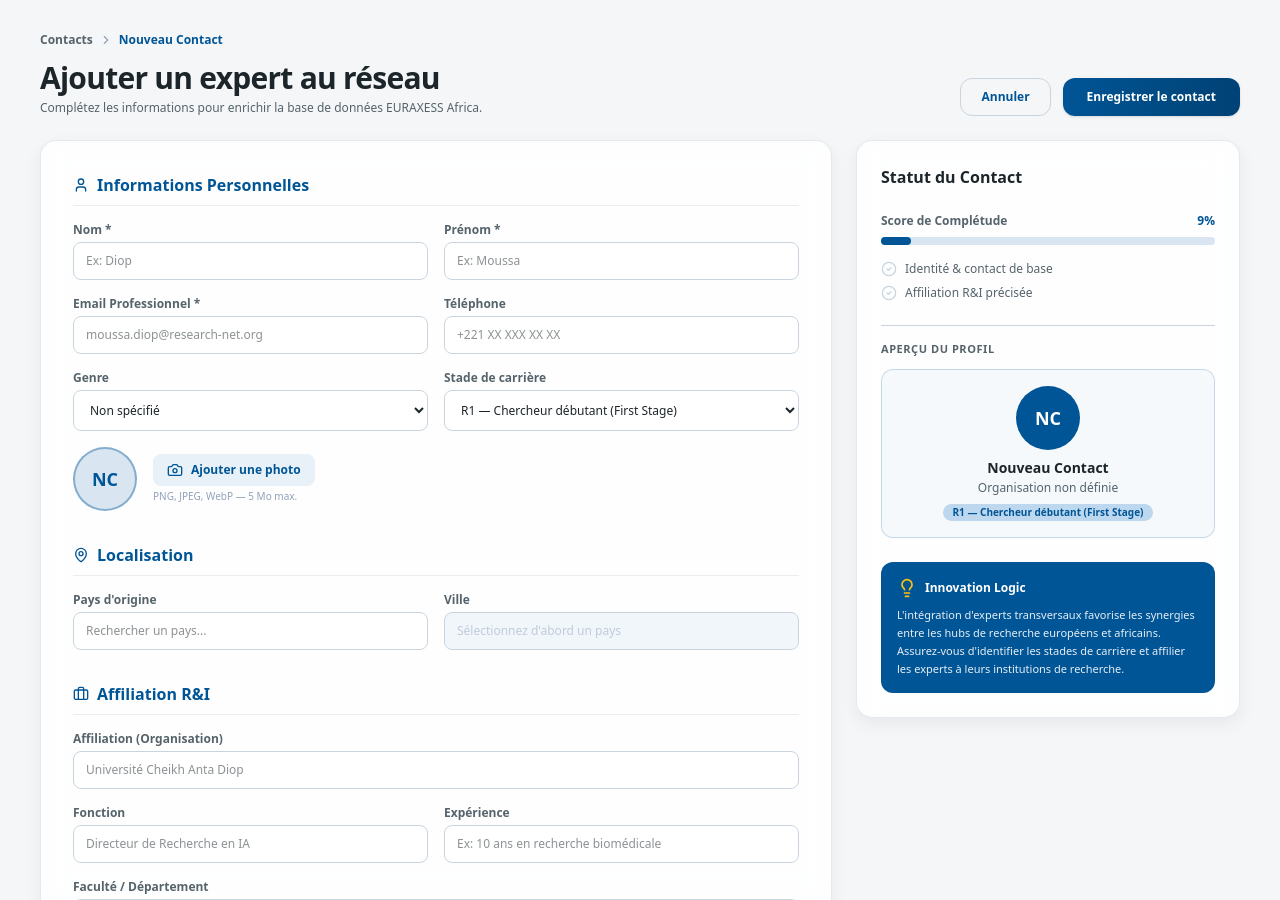
Test: NewContactView › shows inline validation errors when submitting empty required fields
Step 1. Click the button "Enregistrer le contact" → (1151, 97), box [1063, 78, 1240, 116]
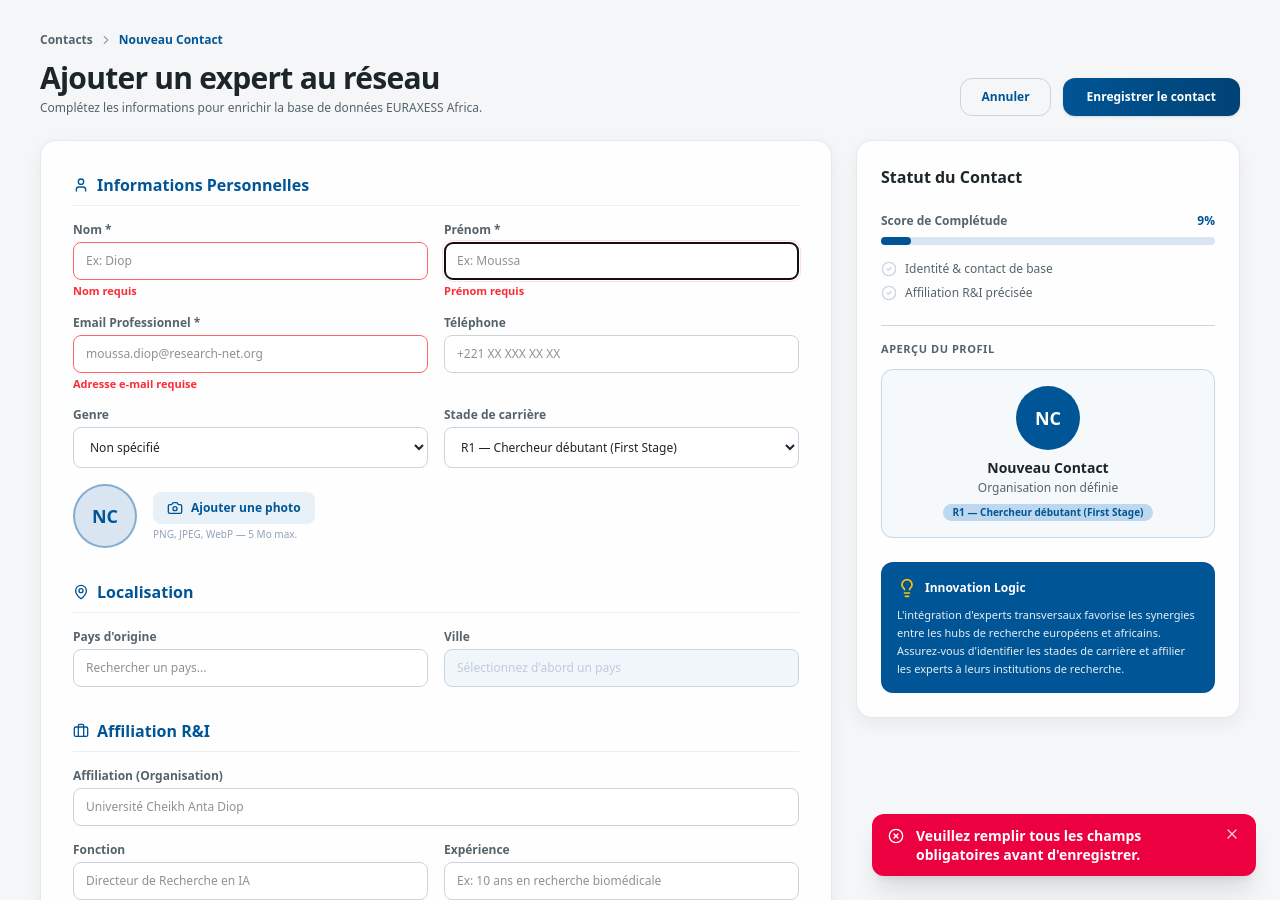
Expected: the text "Prénom requis" is shown, [444, 283, 524, 298]
Expected: the text "Nom requis" is shown, [73, 283, 137, 298]
Expected: the text "Adresse e-mail requise" is shown, [73, 376, 197, 391]
